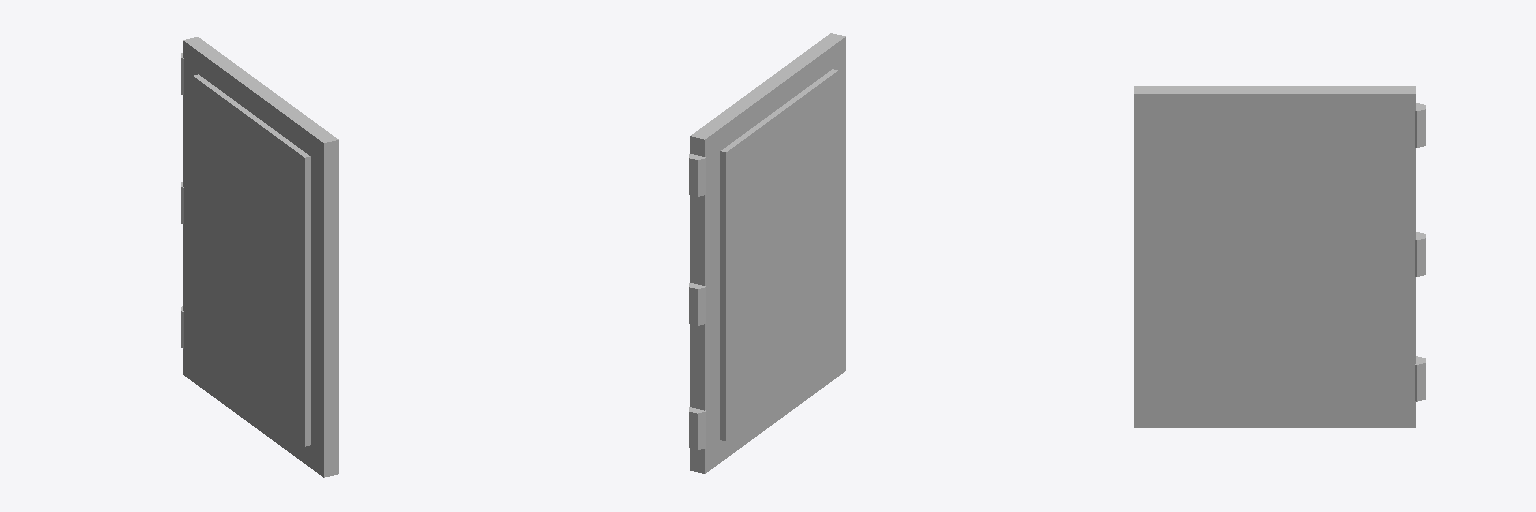
Rendered from 2bis.interaction_fenetre.obj.
3 renders of one model, left to right at view 1: azimuth 30°, elevation 25°; view 2: azimuth 150°, elevation 25°; view 3: azimuth 270°, elevation 25°, orthographic.
Visible parts, largest first — view 1: 2bis.interaction_fenetre; view 2: 2bis.interaction_fenetre; view 3: 2bis.interaction_fenetre.
Boxes of the visible parts, x1=… form: 2bis.interaction_fenetre: x1=181, y1=37, x2=338, y2=477; 2bis.interaction_fenetre: x1=689, y1=33, x2=845, y2=473; 2bis.interaction_fenetre: x1=1134, y1=86, x2=1425, y2=427.
Bounding box in the file's own units: 5.78 × 85.83 × 67.84.